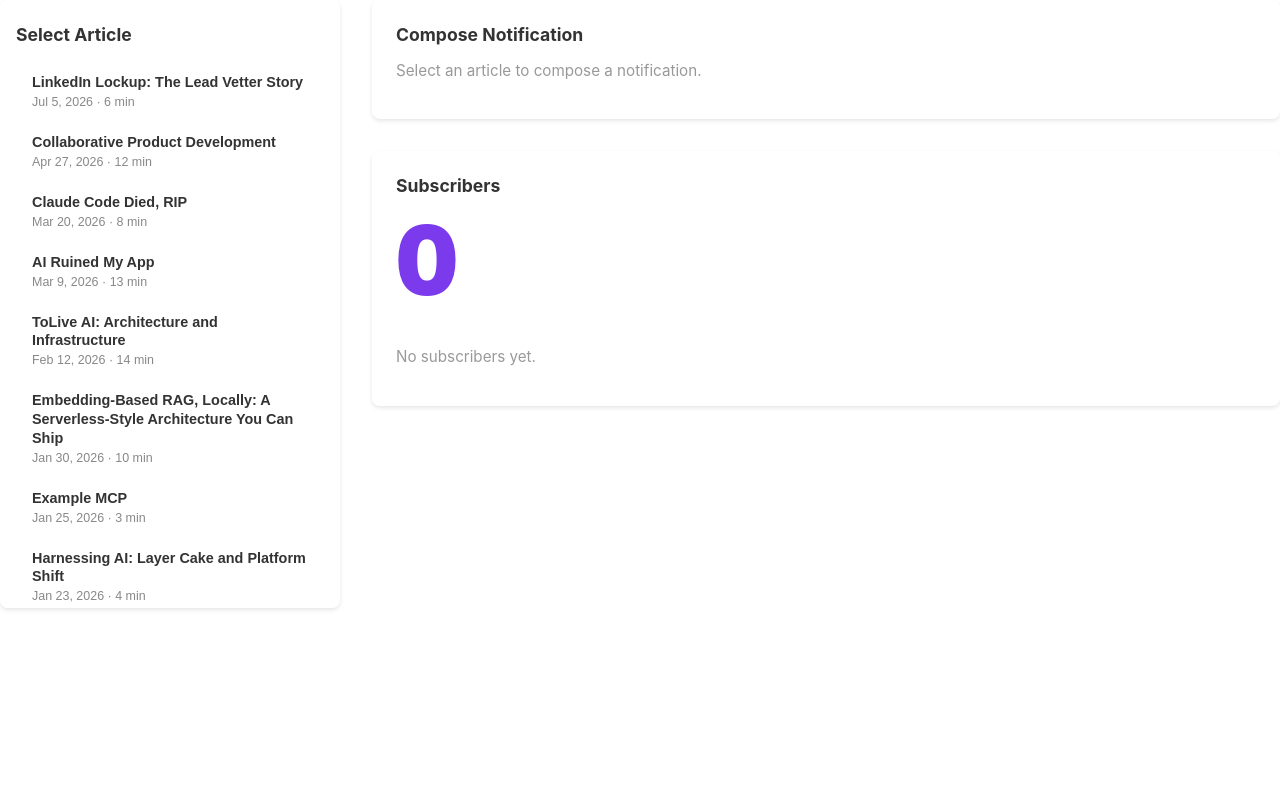
NotificationsView › shows success message with sent count after successful send
Click the text "LinkedIn Lockup: The Lead Vetter Story".
click(168, 82)  # box x1=32 y1=73 x2=303 y2=92
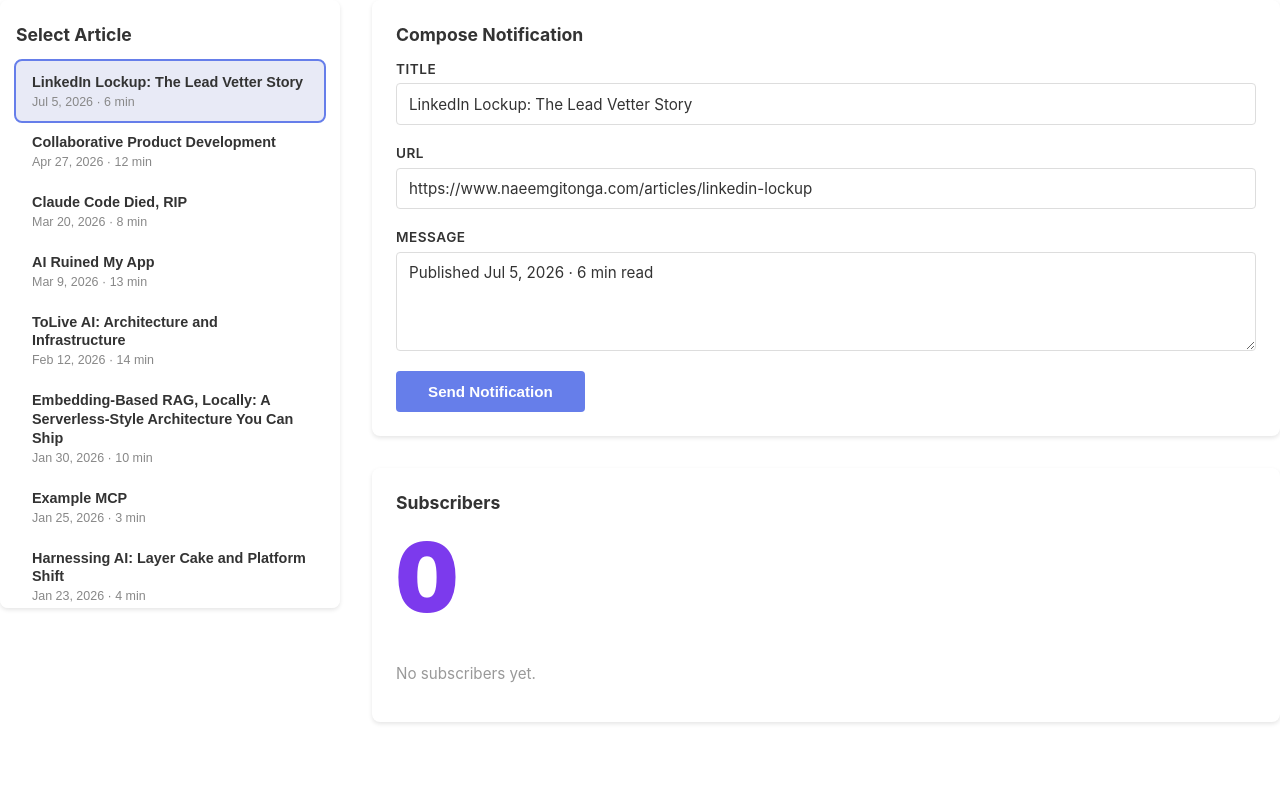
Click the button "Send Notification".
click(490, 391)  # box x1=396 y1=370 x2=585 y2=412
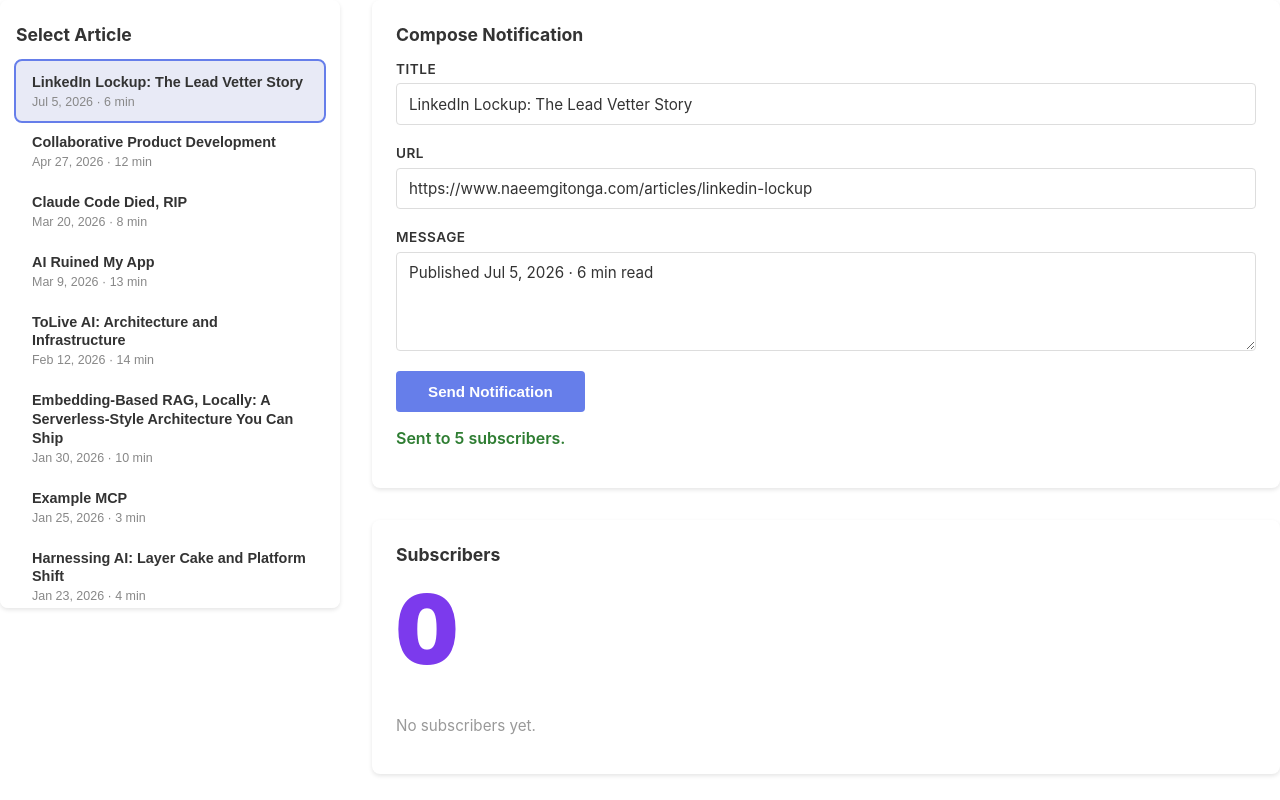
Expected: the text "Sent to 5 subscribers." is shown, x1=396 y1=428 x2=565 y2=448
